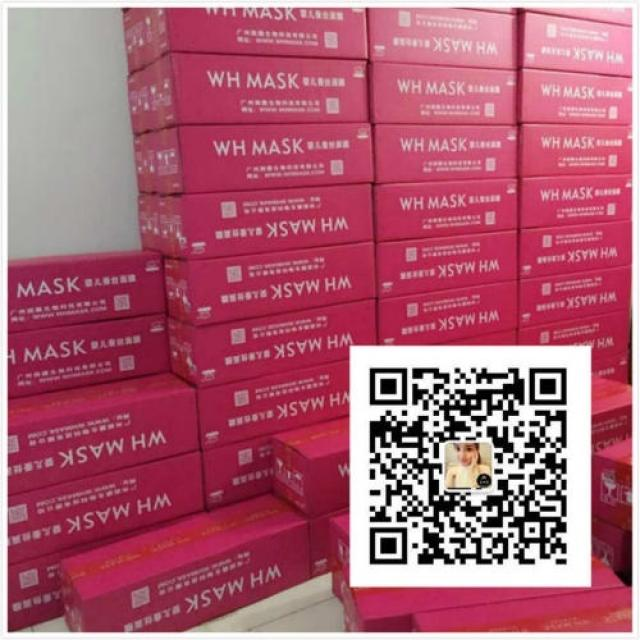box: (61, 492, 311, 632), (9, 510, 207, 632), (8, 371, 199, 496), (8, 449, 205, 564), (340, 554, 625, 632), (125, 52, 369, 134), (167, 298, 377, 389), (162, 240, 376, 326), (138, 183, 373, 261), (133, 122, 375, 194), (122, 9, 369, 73), (196, 359, 350, 450), (8, 313, 171, 398), (8, 248, 166, 333), (410, 586, 632, 632), (375, 229, 519, 298), (367, 62, 517, 125), (367, 8, 519, 70), (377, 279, 518, 345), (373, 177, 518, 241), (371, 124, 518, 184), (271, 416, 350, 520), (518, 11, 632, 78), (518, 264, 631, 328), (517, 308, 630, 369), (519, 219, 632, 278), (518, 68, 632, 125), (519, 174, 633, 229), (518, 125, 632, 178), (202, 435, 272, 511), (593, 436, 631, 531), (592, 372, 632, 452), (593, 517, 630, 586), (330, 510, 349, 605), (307, 515, 331, 578)
